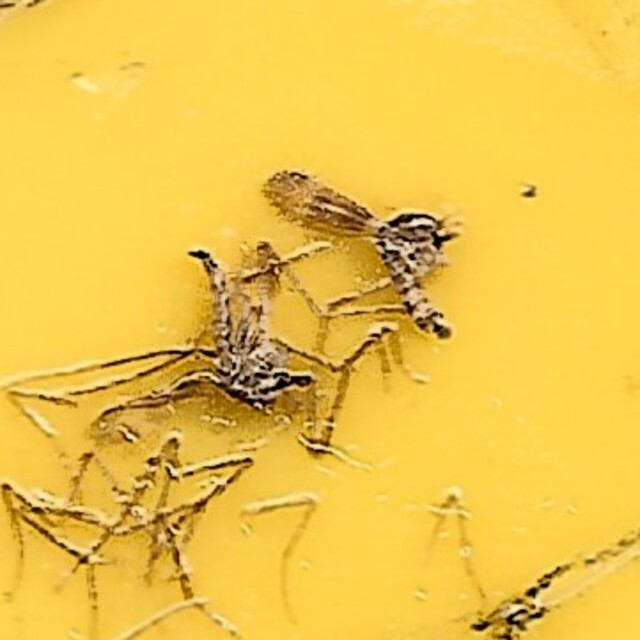Nematocera: (177, 249, 355, 470), (262, 170, 463, 347)
